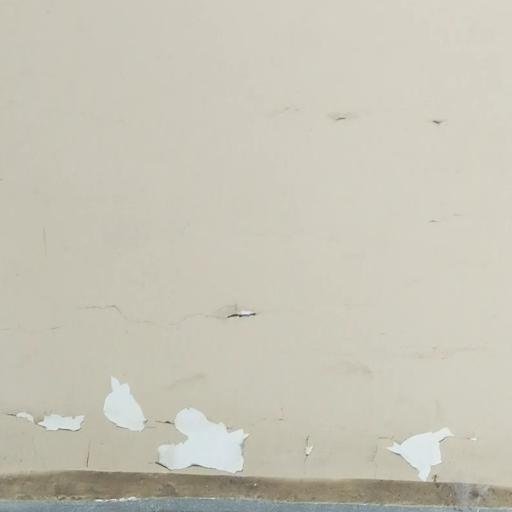peeling: (1, 378, 266, 483), (379, 421, 480, 495)
